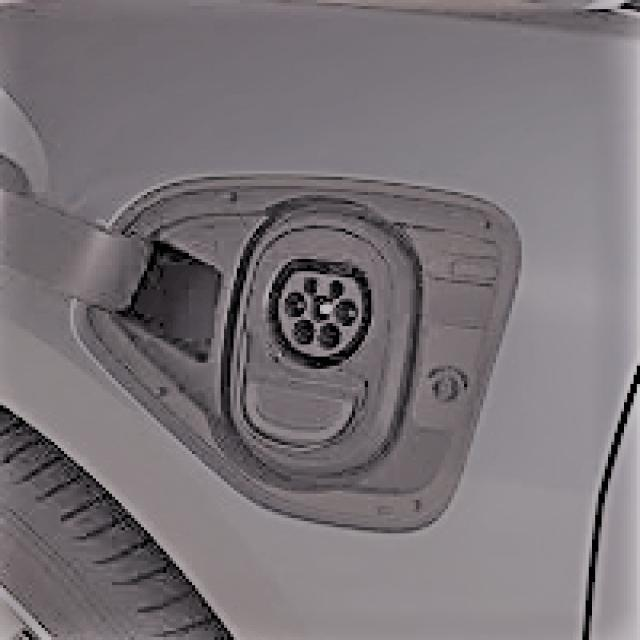CCS1: (254, 255, 384, 444)
